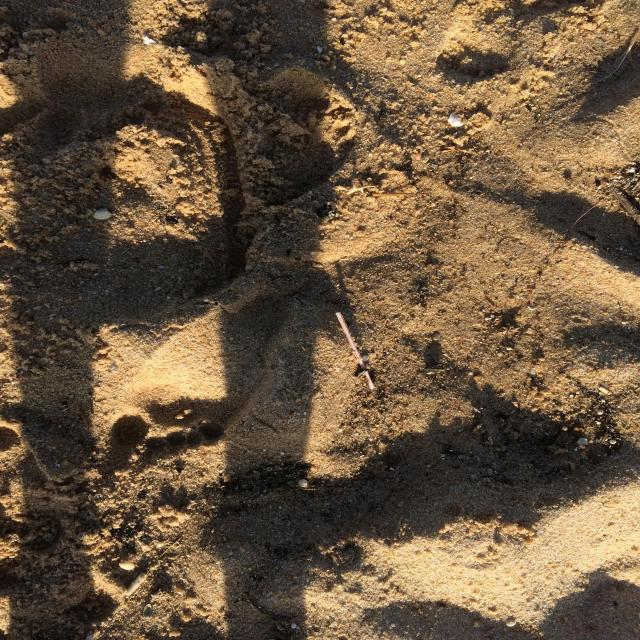Cigarette: (124, 573, 148, 595)
Plastic straw: (335, 312, 375, 389)
